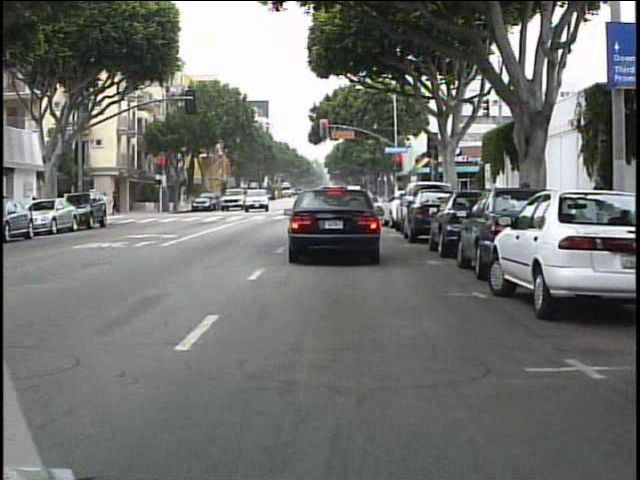person: (110, 188, 126, 219)
